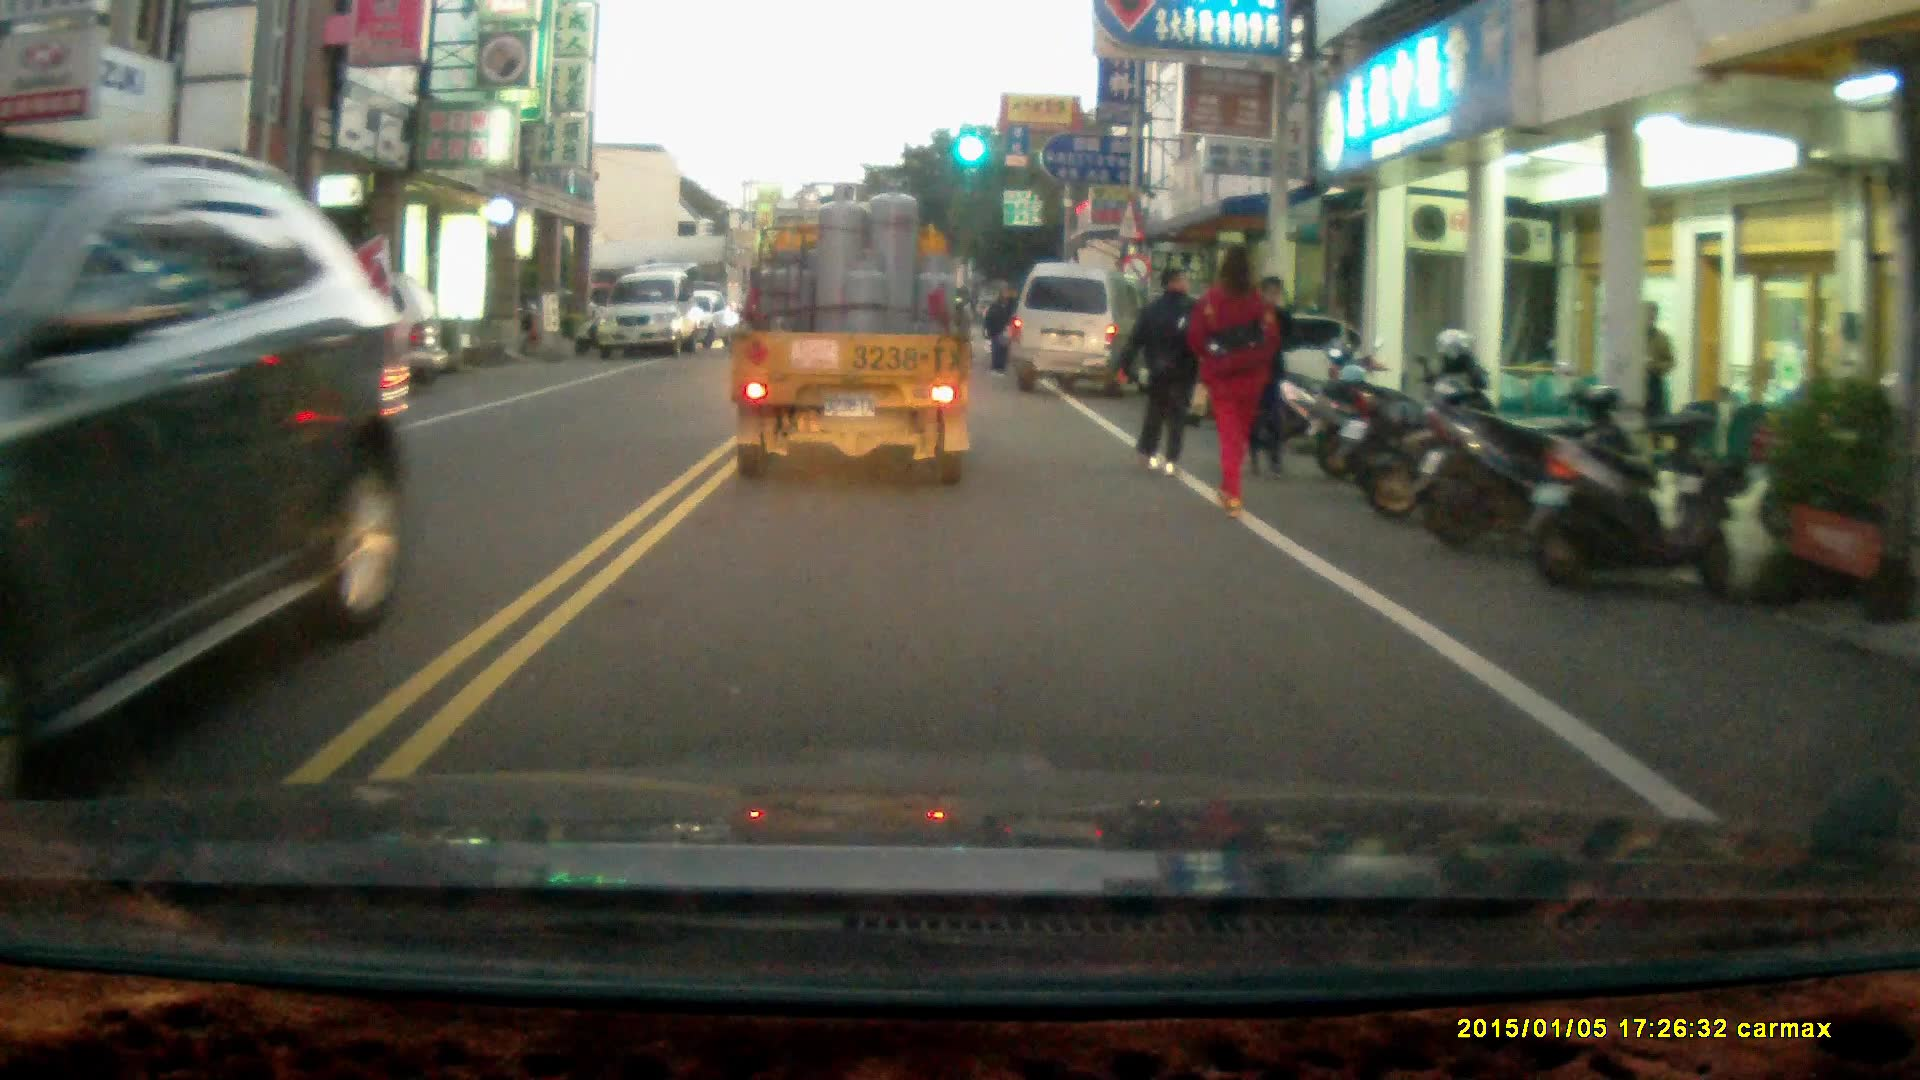pedestrian: (1190, 240, 1278, 525), (1124, 261, 1207, 476), (1239, 273, 1296, 482), (1634, 298, 1677, 456), (984, 287, 1018, 376)
vehicle: (1, 126, 417, 789), (723, 186, 980, 502), (164, 290, 442, 413), (1014, 260, 1151, 398), (599, 270, 710, 357)
